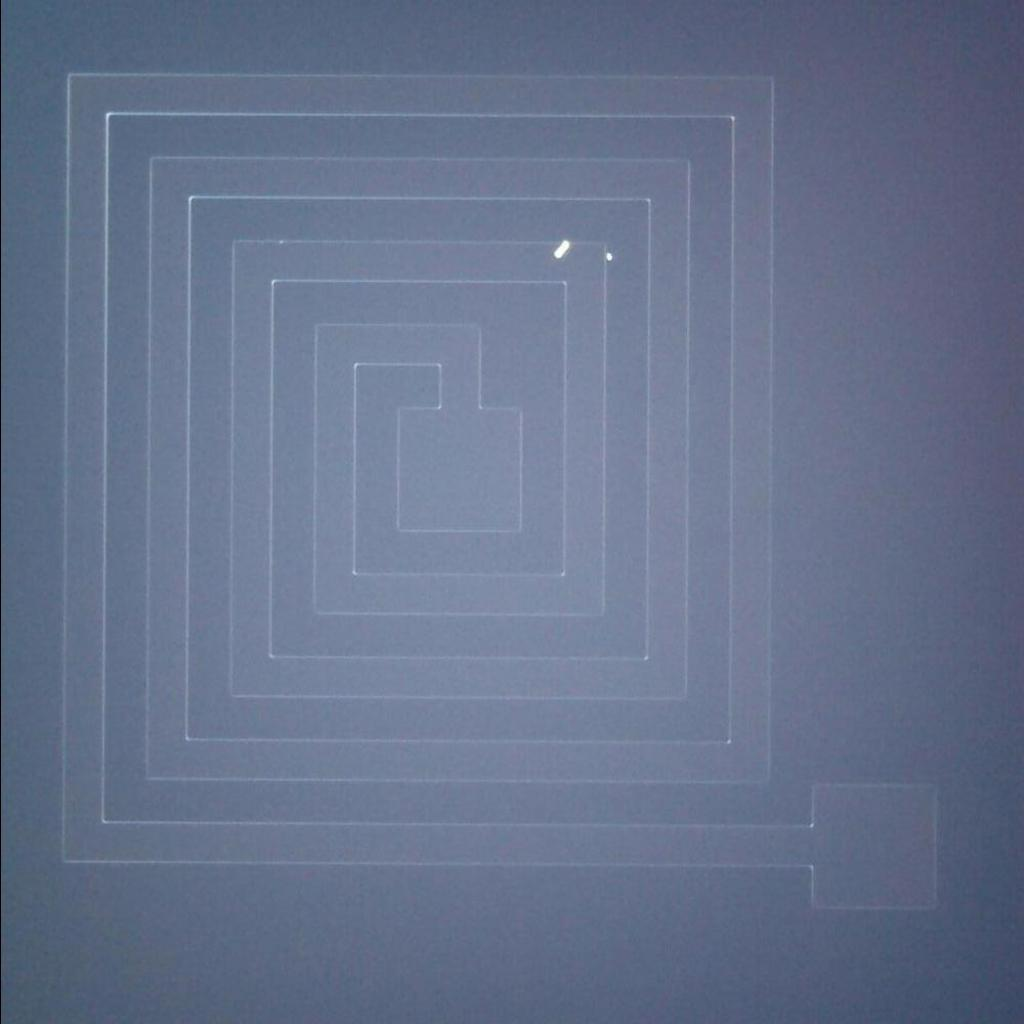dot: (596, 240, 622, 271)
spot: (549, 236, 576, 264)
